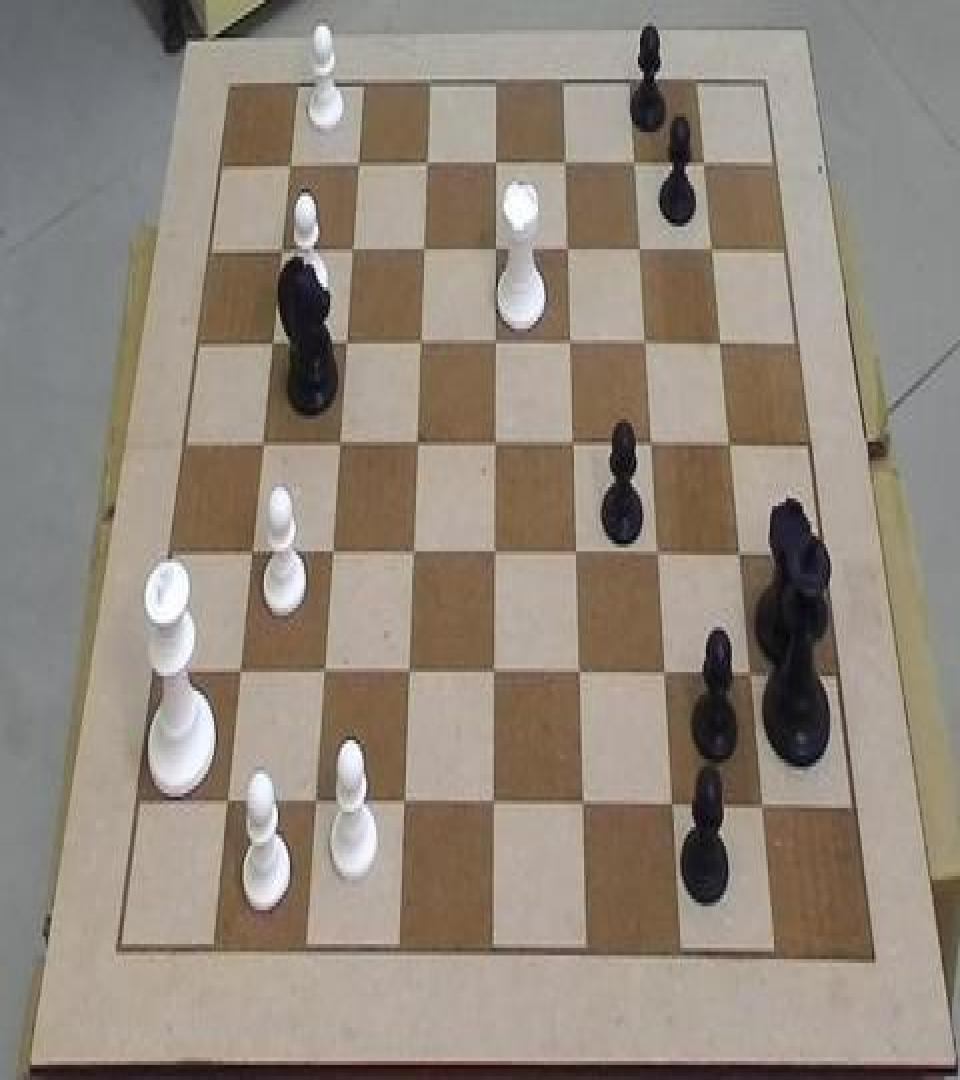xcorner: (693, 144, 713, 182), (624, 144, 644, 182), (555, 144, 575, 182), (486, 144, 506, 182), (418, 144, 438, 182), (349, 144, 369, 182), (281, 144, 301, 182), (701, 230, 721, 268), (629, 230, 649, 268), (557, 228, 577, 266), (486, 228, 506, 266), (415, 228, 435, 266), (343, 228, 363, 266), (273, 228, 293, 266), (710, 322, 730, 360), (635, 322, 655, 360), (560, 322, 580, 360), (486, 321, 506, 359), (411, 321, 431, 359), (337, 321, 357, 359), (263, 321, 283, 359), (719, 424, 739, 462), (641, 424, 661, 462), (563, 423, 583, 461), (485, 423, 505, 461), (408, 423, 428, 461), (330, 421, 350, 459), (253, 421, 273, 459), (730, 536, 750, 574), (648, 534, 668, 572), (566, 534, 586, 572), (485, 532, 505, 570), (404, 532, 424, 570), (323, 532, 343, 570), (242, 530, 262, 568), (741, 657, 761, 695), (655, 657, 675, 695), (570, 655, 590, 693), (484, 653, 504, 691), (399, 653, 419, 691), (315, 652, 335, 690), (230, 652, 250, 690), (754, 791, 774, 829), (664, 791, 684, 829), (574, 789, 594, 827), (484, 787, 504, 825), (394, 786, 414, 824), (305, 786, 325, 824), (217, 784, 237, 822)
